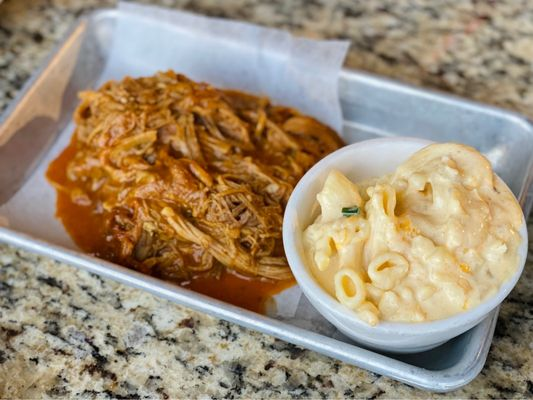sushi: (281, 138, 529, 365)
